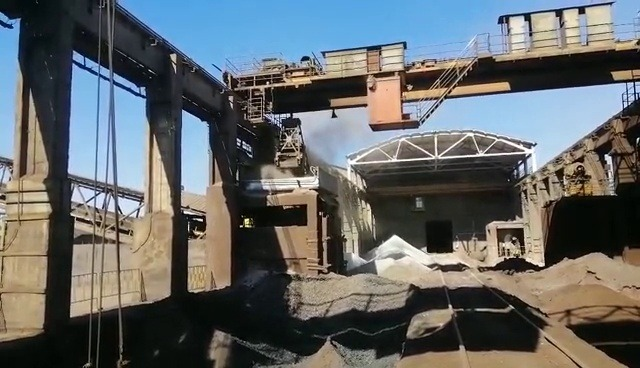dust: (256, 119, 376, 181)
grab: (271, 115, 312, 174)
